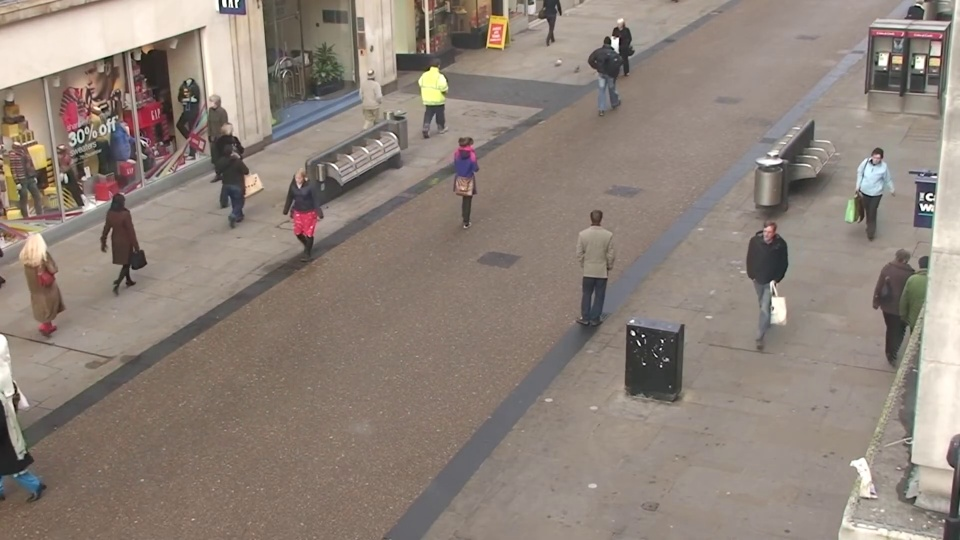pedestrian: (891, 243, 948, 375), (874, 237, 929, 367), (22, 220, 80, 341), (741, 221, 785, 345), (109, 182, 157, 292), (851, 147, 895, 253), (575, 202, 613, 322), (276, 169, 316, 278), (218, 133, 256, 231), (219, 113, 256, 206), (453, 129, 487, 228), (193, 93, 228, 181), (362, 62, 391, 142), (427, 52, 455, 130), (599, 30, 623, 102), (604, 16, 627, 84)
